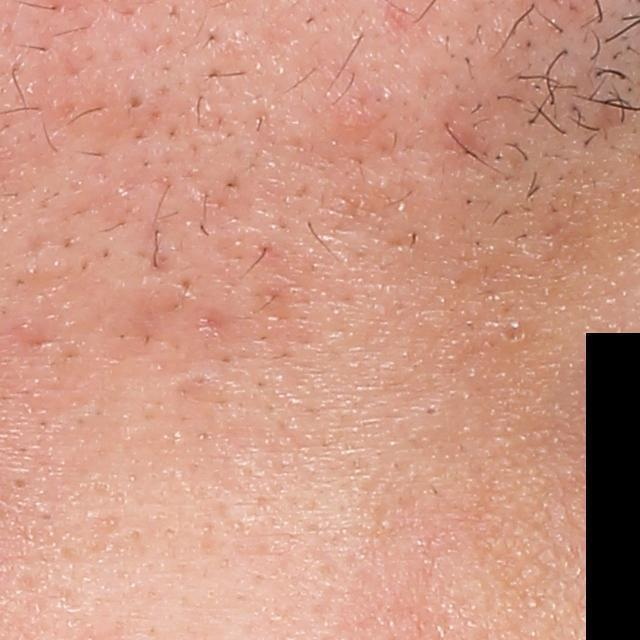comedo: (500, 315, 525, 348), (8, 474, 29, 492), (126, 96, 144, 113), (421, 404, 440, 418)
